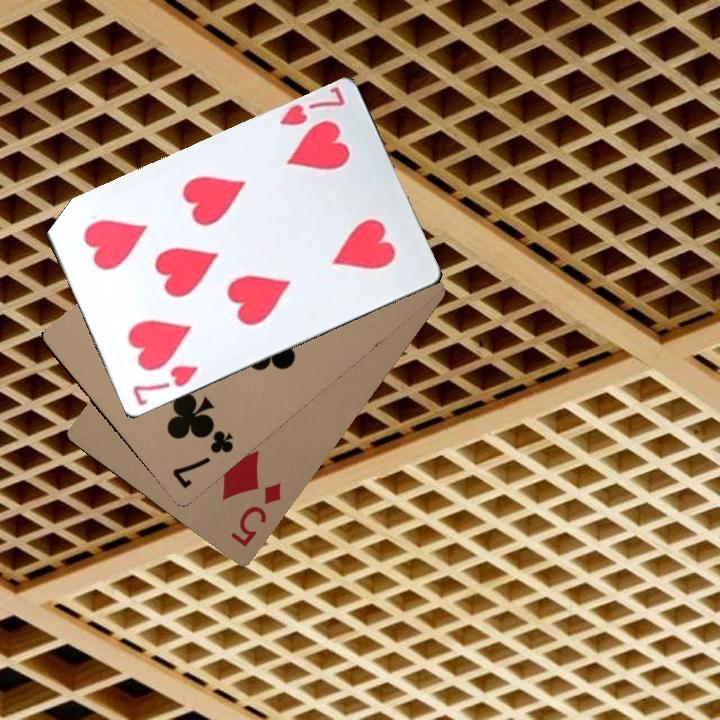5d: (226, 478, 284, 550)
7c: (168, 426, 236, 492)
7h: (128, 360, 201, 409), (275, 84, 348, 129)
